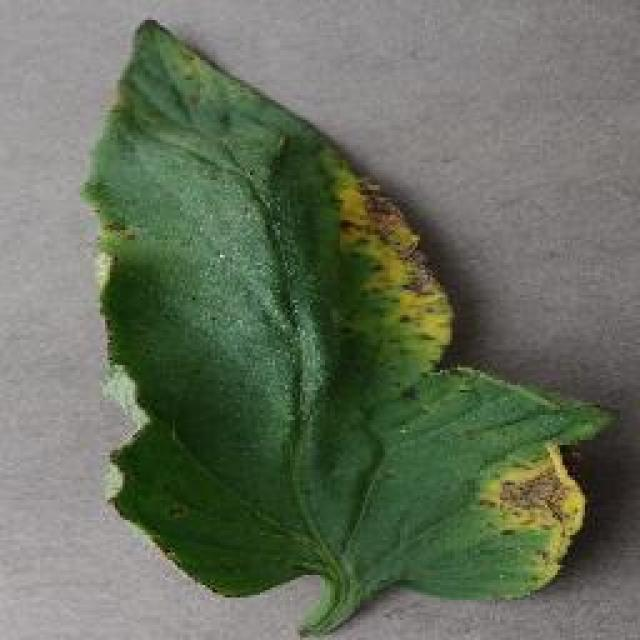Tomato bacterial spot leaf: (79, 12, 618, 606)
